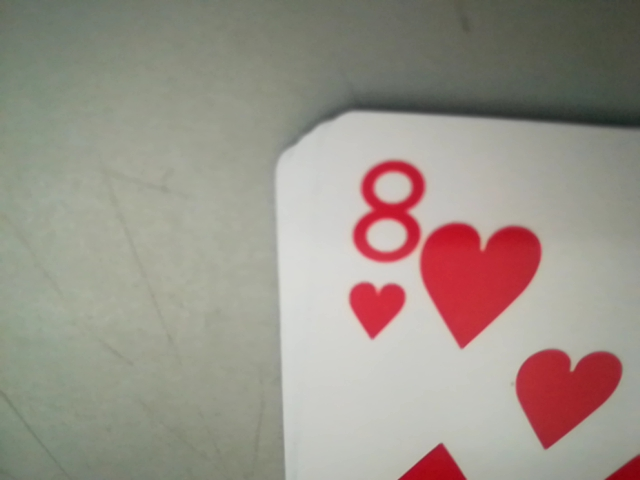hx 8: (334, 159, 423, 339)
